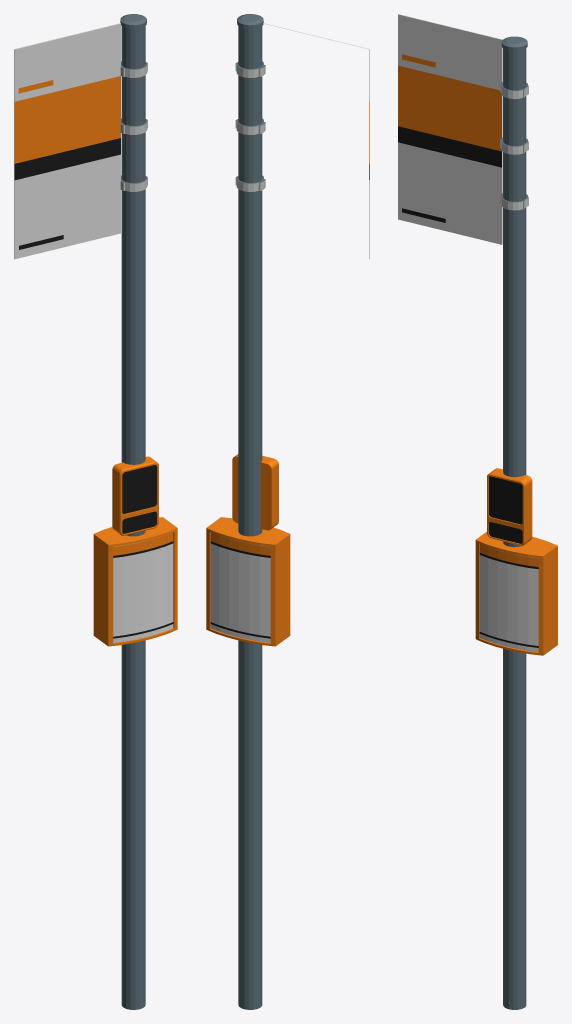
The model's file is Bus stop sign.glb.
3 renders of one model, left to right at view 1: azimuth 30°, elevation 25°; view 2: azimuth 150°, elevation 25°; view 3: azimuth 330°, elevation 25°, orthographic. The views are drawn at different scales.
Parts seen in each view (by area): view 1: Bussy; view 2: Bussy; view 3: Bussy.
Boxes of the visible parts, <box> form: Bussy: <box>14,14,177,1009</box>; Bussy: <box>206,14,369,1009</box>; Bussy: <box>398,14,557,1009</box>.
Size of the model in its own units: 4 by 24.23 by 0.9328.
